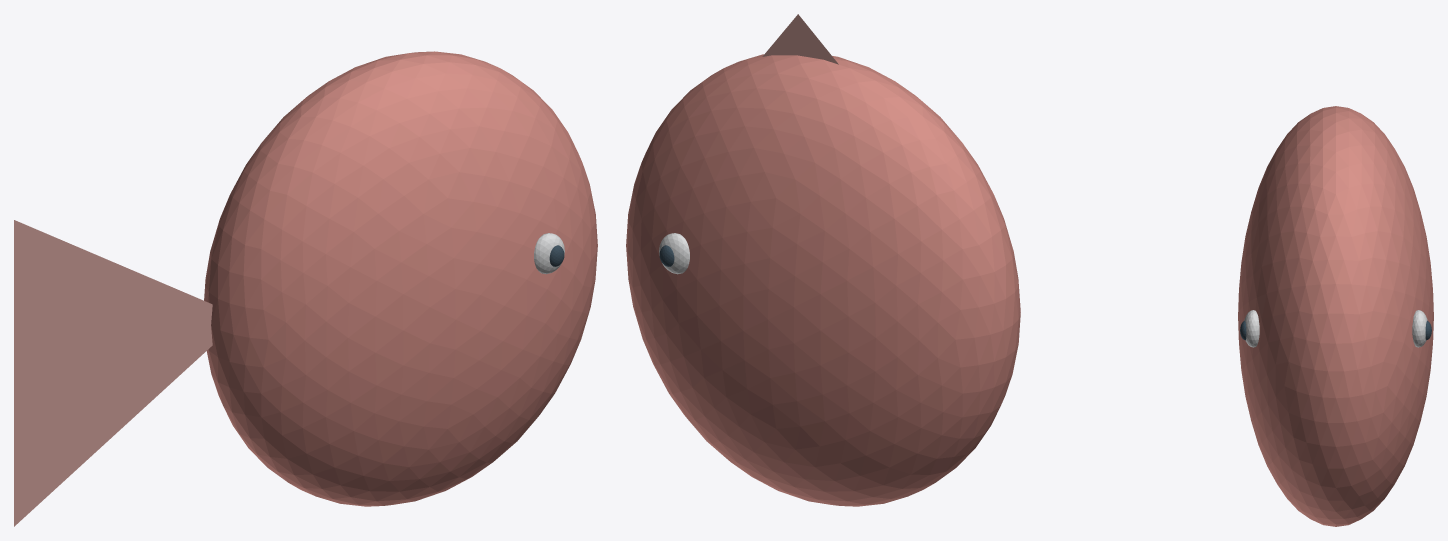
3 renders of one model, left to right at view 1: azimuth 30°, elevation 25°; view 2: azimuth 150°, elevation 25°; view 3: azimuth 270°, elevation 25°, orthographic. The views are drawn at different scales.
Parts seen in each view (by area): view 1: puffer_00, puffer_01, puffer_05; view 2: puffer_00, puffer_02, puffer_03; view 3: puffer_00, puffer_03, puffer_05.
Part boxes in pixels (box(x1,y1,x2,y2)): puffer_00: box(204, 51, 597, 506); puffer_01: box(14, 220, 212, 526); puffer_05: box(534, 233, 564, 274); puffer_00: box(626, 54, 1020, 506); puffer_02: box(762, 14, 838, 64); puffer_03: box(659, 233, 689, 274); puffer_00: box(1238, 106, 1433, 526); puffer_03: box(1412, 310, 1427, 347); puffer_05: box(1244, 310, 1259, 347).
Bounding box in the file's own units: 2.28 × 1.81 × 0.76.
